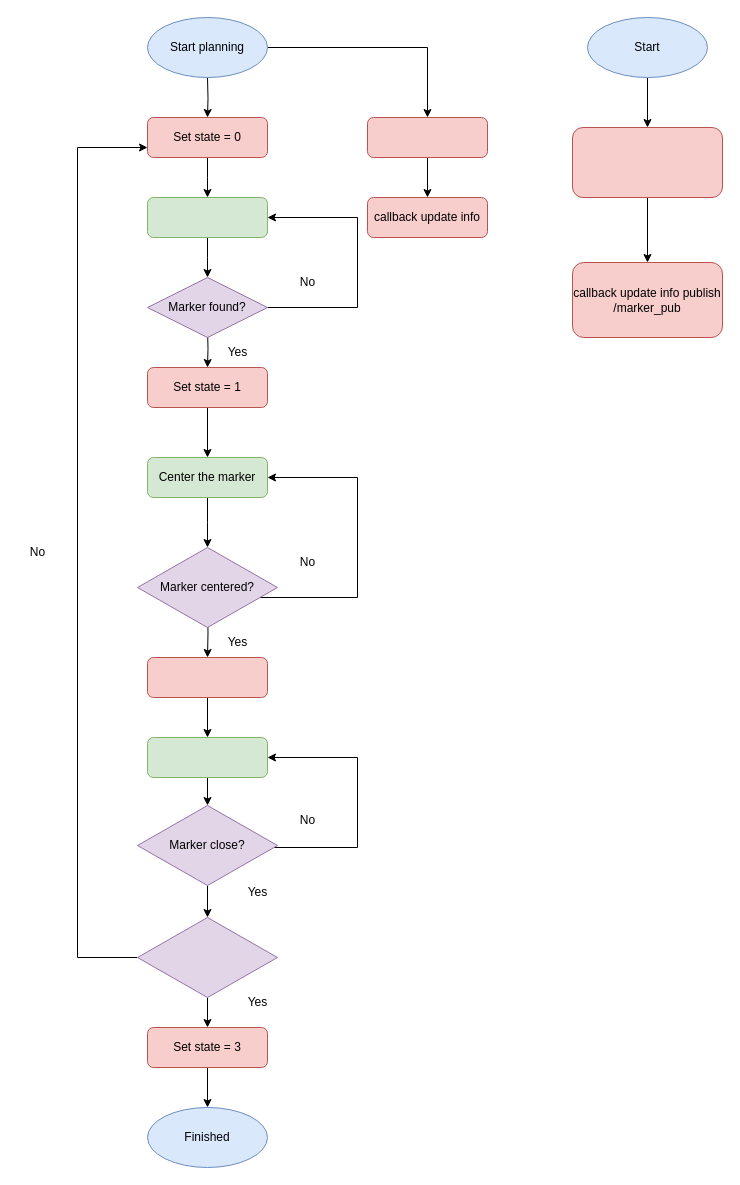
The diagram is 740 pixels wide and 1185 high, and some of its shapes have lost their labels. Each missing label, with the centre of its shape:
Last marker?: the point at 207,957
Move forward: the point at 207,757
Rotate robot: the point at 207,217
Set state = 2: the point at 207,677
Subscriber /marker_pub: the point at 427,137
Subscriber to /robot/camera1/image_raw: the point at 647,162
